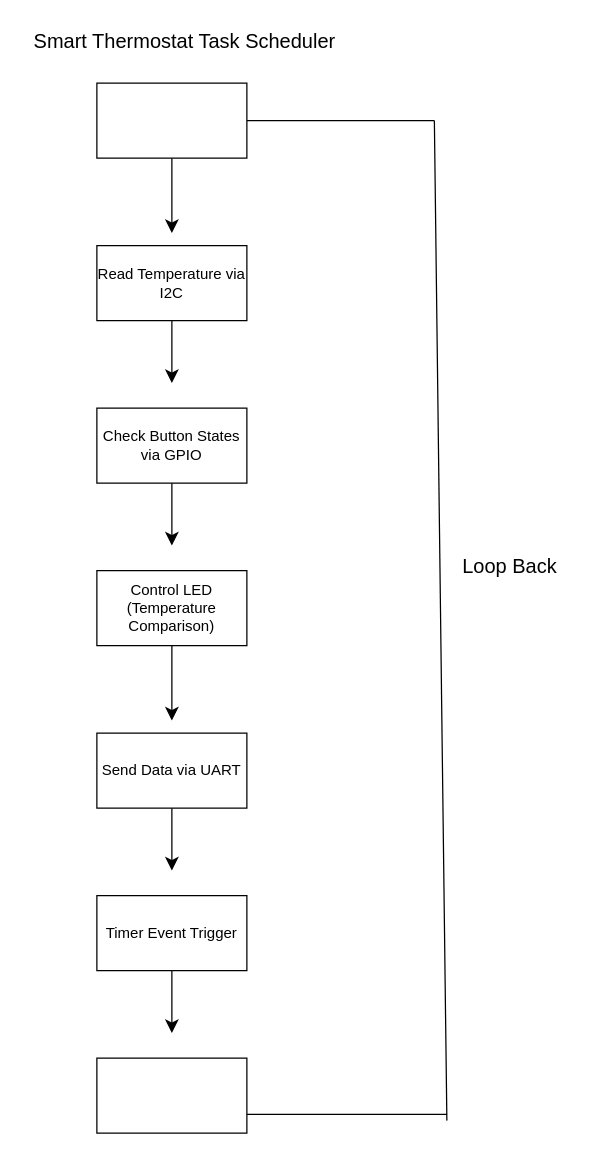
Image size: 593x1155. Some labels were removed from this diagram. Each missing label, with the centre of its shape:
End of Cycle: [171,1095]
System Initialization: [171,120]
